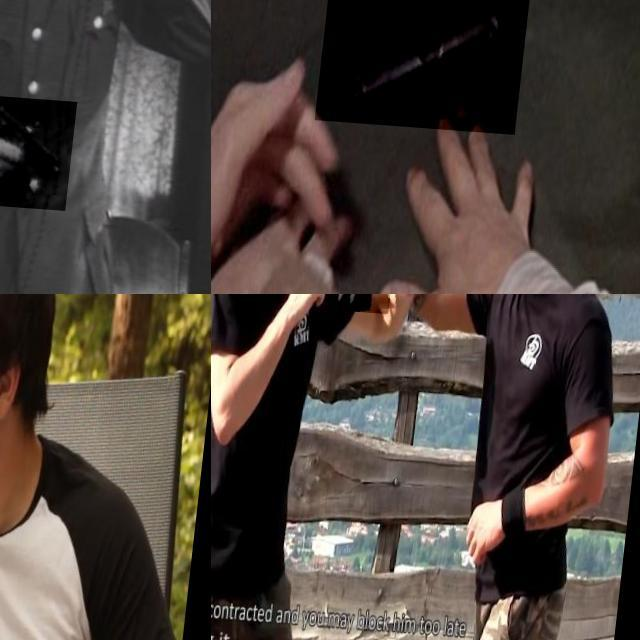-: (0, 514, 51, 640), (334, 294, 408, 375)
gun-knife-thesis - v11 Yolov5 augmented: (319, 0, 538, 127), (0, 89, 86, 206)
